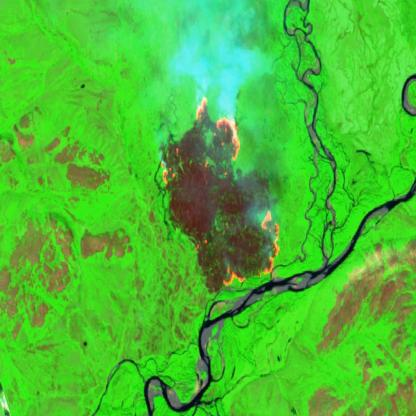fire: (158, 92, 282, 292)
